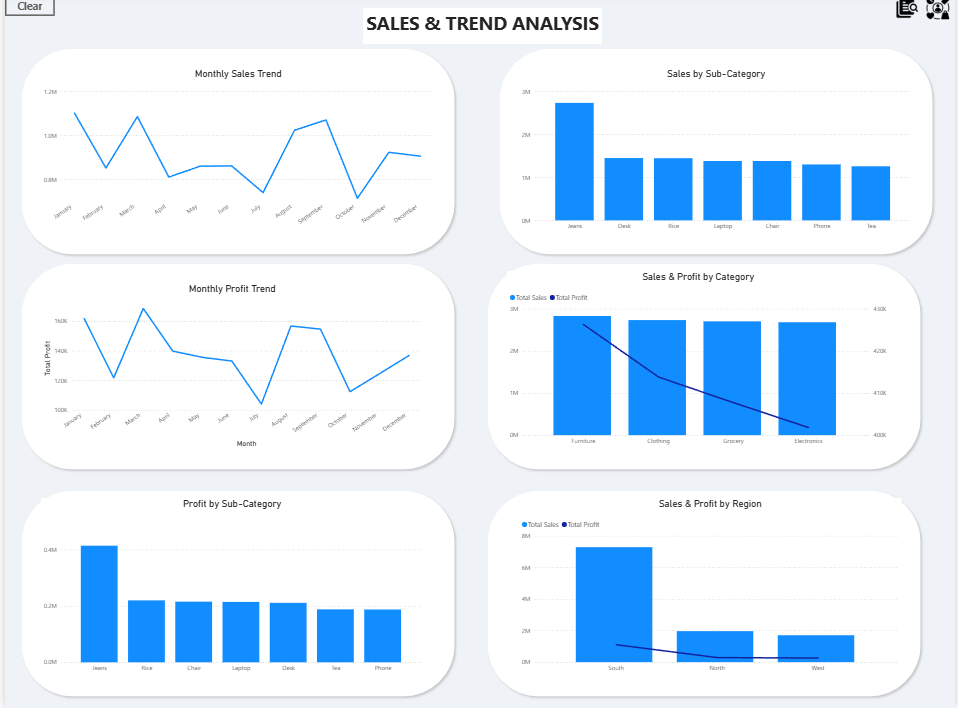

Layout of this report page (visuals, bound fields, positions):
{"tool":"powerbi","page":{"name":"Sales & Trend Analysis","canvas":[1910,1430],"ordinal":1},"visuals":[{"type":"shape","box":[960,984,888,432],"z":0},{"type":"shape","box":[960,528,888,432],"z":1000},{"type":"shape","box":[984,96,888,432],"z":2000},{"type":"shape","box":[24,984,888,432],"z":3000},{"type":"shape","box":[24,528,888,432],"z":4000},{"type":"shape","box":[24,96,888,432],"z":5000},{"type":"textbox","box":[720,24,480,72],"z":6000},{"type":"image","box":[1776,0,72,48],"z":7000},{"type":"lineChart","title":"Monthly Sales Trend","fields":{"Category":["retail_sales_cleaned.Order_Date.Variation.Date Hierarchy.Month"],"Y":["retail_sales_cleaned.Total Sales"]},"box":[72,144,792,336],"z":8000},{"type":"lineChart","title":" Monthly Profit Trend","fields":{"Category":["retail_sales_cleaned.Order_Date.Variation.Date Hierarchy.Month"],"Y":["retail_sales_cleaned.Total Profit"]},"box":[72,576,768,336],"z":9000},{"type":"clusteredColumnChart","title":"Sales by Sub-Category","fields":{"Category":["retail_sales_cleaned.Sub_Category"],"Y":["retail_sales_cleaned.Total Sales"]},"box":[1032,144,792,336],"z":10000},{"type":"clusteredColumnChart","title":"Profit by Sub-Category","fields":{"Category":["retail_sales_cleaned.Sub_Category"],"Y":["retail_sales_cleaned.Total Profit"]},"box":[72,1008,768,360],"z":11000},{"type":"lineClusteredColumnComboChart","title":"Sales & Profit by Category","fields":{"Category":["retail_sales_cleaned.Category"],"Y":["retail_sales_cleaned.Total Sales"],"Y2":["retail_sales_cleaned.Total Profit"]},"box":[1008,552,768,360],"z":12000},{"type":"lineClusteredColumnComboChart","title":"Sales & Profit by Region","fields":{"Category":["retail_sales_cleaned.Region"],"Y":["retail_sales_cleaned.Total Sales"],"Y2":["retail_sales_cleaned.Total Profit"]},"box":[1032,1008,768,360],"z":13000},{"type":"image","box":[1838,0,72,48],"z":14000},{"type":"actionButton","box":[0,0,100,40],"z":14001}]}

Visuals, with their boxes in screenshot pixels (x1, y1, x2, y2), scaled from the page's 1910x1430 canvas onto the 958x708 screenshot:
shape: <box>482,487,927,701</box>
shape: <box>482,261,927,475</box>
shape: <box>494,48,939,261</box>
shape: <box>12,487,457,701</box>
shape: <box>12,261,457,475</box>
shape: <box>12,48,457,261</box>
textbox: <box>361,12,602,48</box>
image: <box>891,0,927,24</box>
"Monthly Sales Trend" lineChart: <box>36,71,433,238</box>
" Monthly Profit Trend" lineChart: <box>36,285,421,452</box>
"Sales by Sub-Category" clusteredColumnChart: <box>518,71,915,238</box>
"Profit by Sub-Category" clusteredColumnChart: <box>36,499,421,677</box>
"Sales & Profit by Category" lineClusteredColumnComboChart: <box>506,273,891,452</box>
"Sales & Profit by Region" lineClusteredColumnComboChart: <box>518,499,903,677</box>
image: <box>922,0,957,24</box>
actionButton: <box>0,0,50,20</box>
